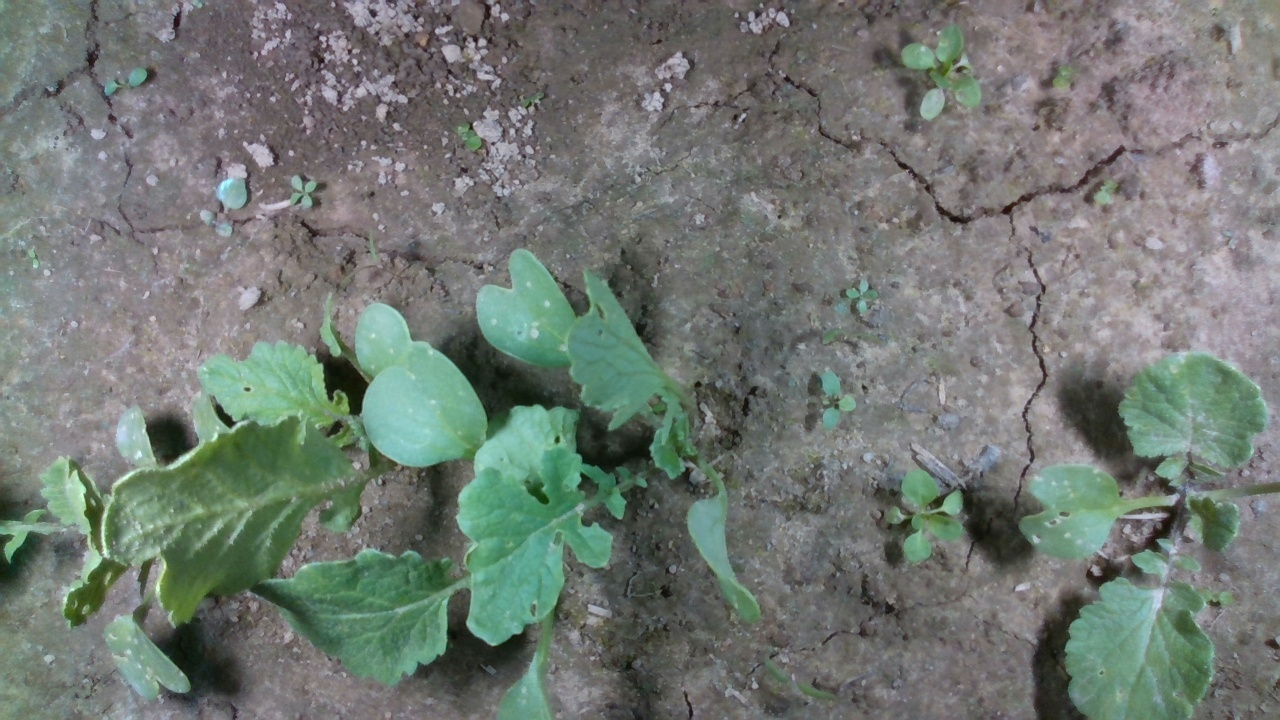weed: (810, 360, 858, 429), (835, 272, 878, 322), (93, 71, 158, 96), (282, 174, 318, 208), (444, 124, 492, 149)
